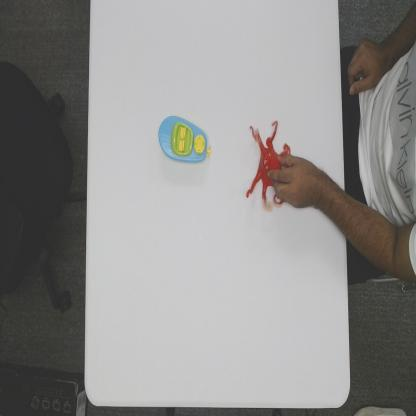Boat: (158, 113, 212, 164)
Hand: (267, 149, 325, 209)
Octopus: (246, 117, 292, 211)
